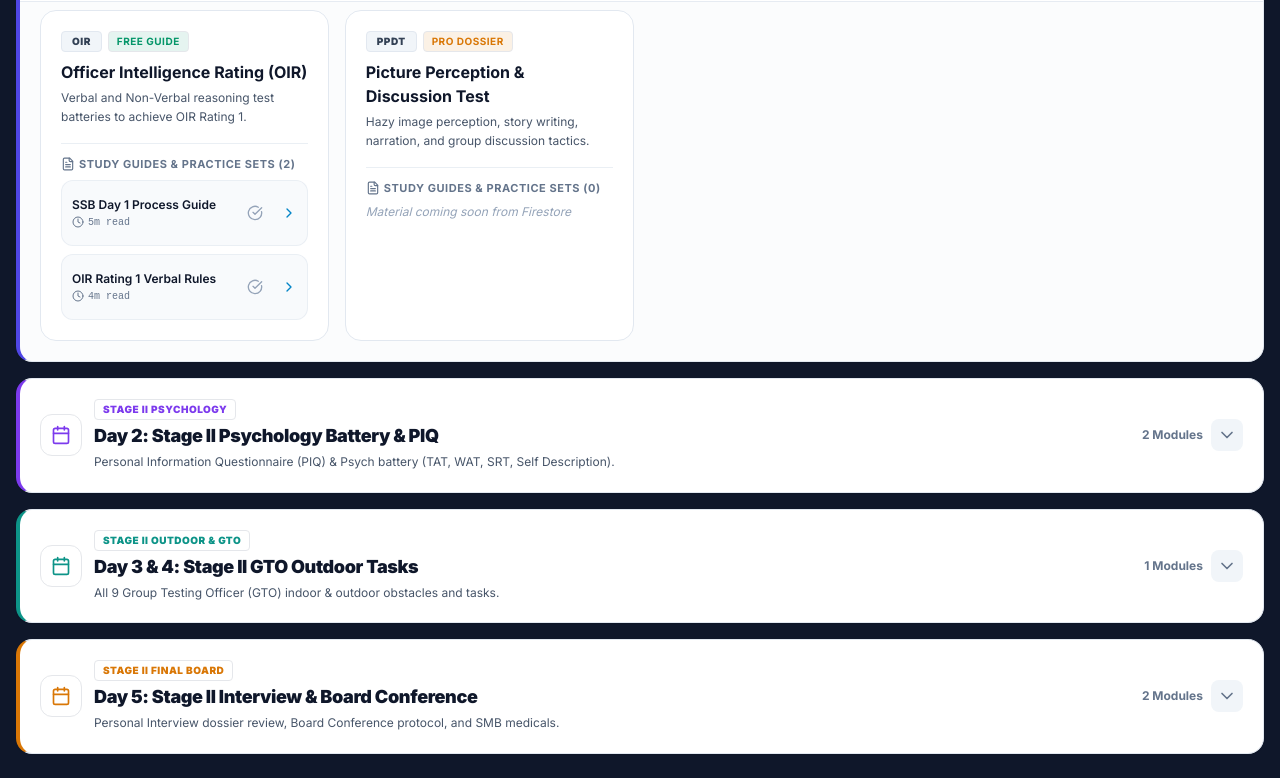
Test case: StudyMaterialPage Component › renders a single merged GTO study-materials card under Day 3 & 4 section
This screenshot has width=1280, height=778.
(page scrolled)
Check: the element with test id "study-day-accordion-3-4" is shown, box [16, 508, 1264, 623]
Note: Expand Day 3 & 4 Accordion
Click the button with test id "toggle-accordion-btn-3-4": (61, 566) [20, 510, 1263, 622]
(page scrolled)
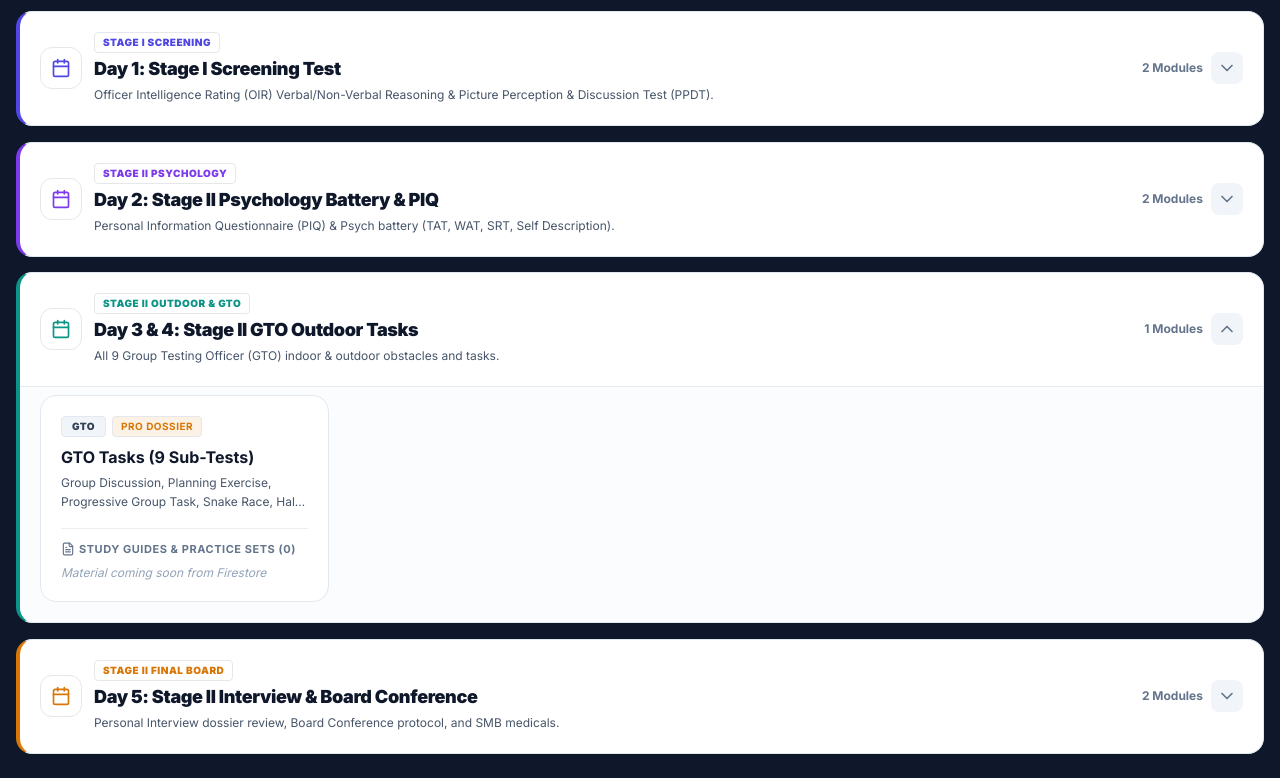
Check: the element with test id "study-test-card-gd" is shown, box [40, 394, 329, 602]
